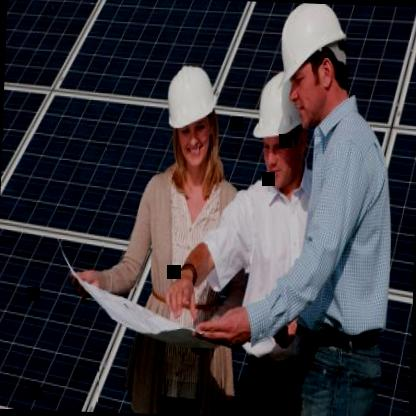helmet: (272, 3, 356, 132), (250, 66, 315, 208), (160, 51, 221, 182)
